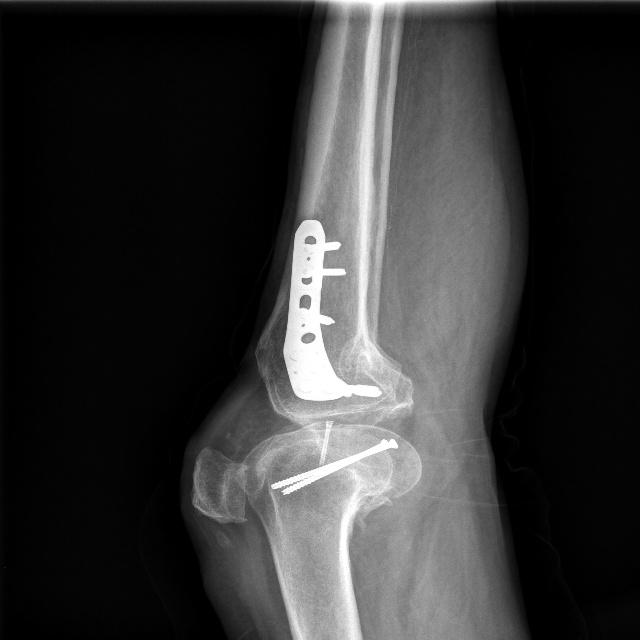Knee: (191, 323, 431, 532)
